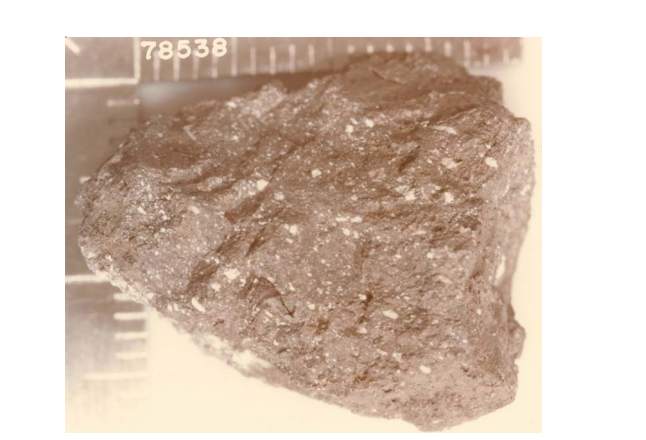Basalt: (93, 64, 523, 417), (229, 153, 469, 359)
